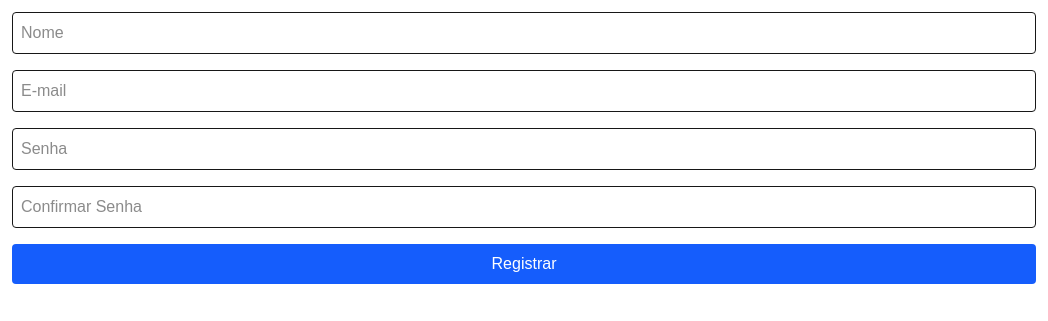
Test: RegisterForm › deve mostrar erro de incompatibilidade de senha
Type "Test" into the field with placeholder "Nome" at [524, 33], box [12,12,1036,54]
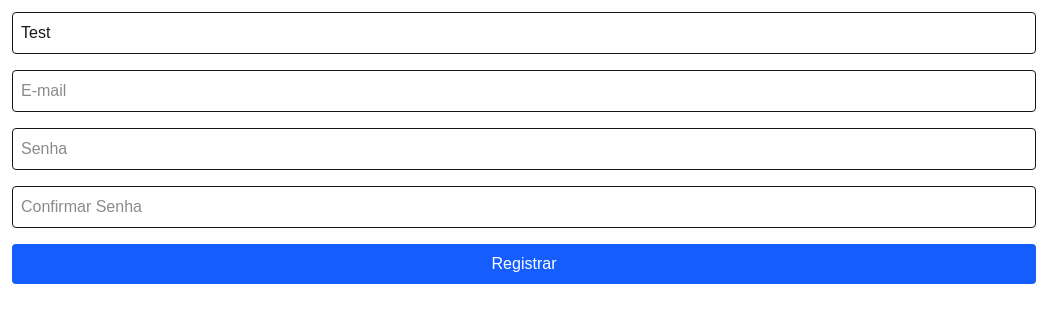
Type "test@example.com" into the field with placeholder "E-mail" at [524, 91], box [12,70,1036,112]
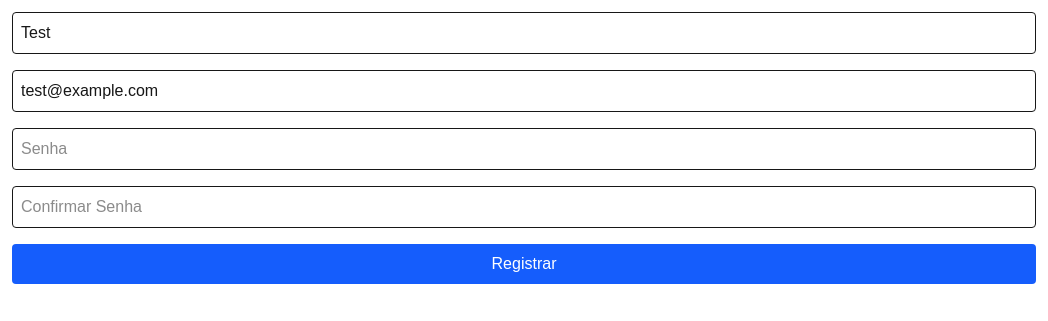
Type "123456" into the password field with placeholder "Senha" at [524, 149], box [12,128,1036,170]
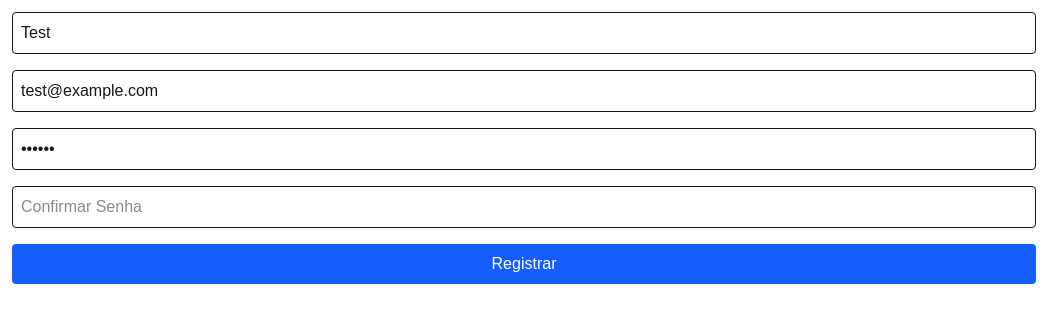
Type "654321" into the password field with placeholder "Confirmar Senha" at [524, 207], box [12,186,1036,228]
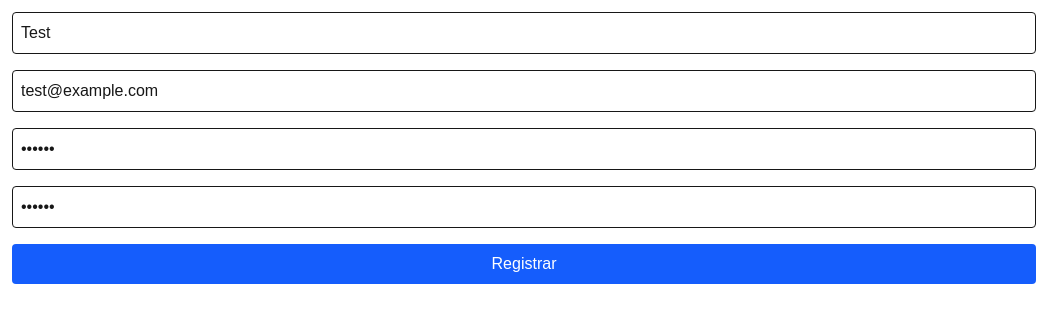
Click the button "Registrar" at [524, 264], box [12,244,1036,284]
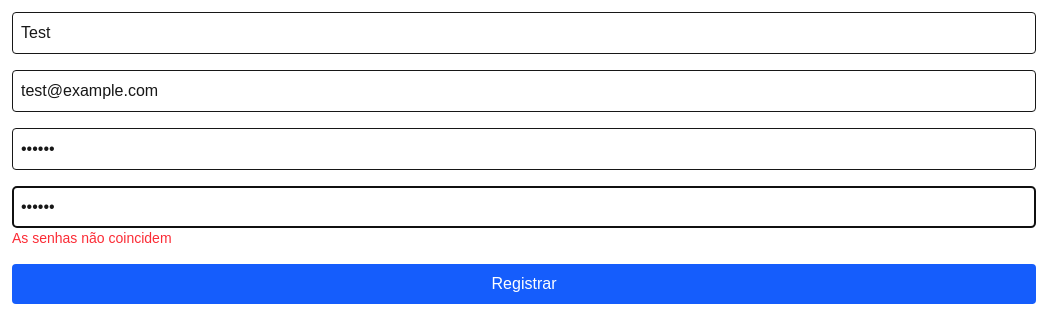
Now the text "As senhas não coincidem" is shown, box [12,230,172,246]
